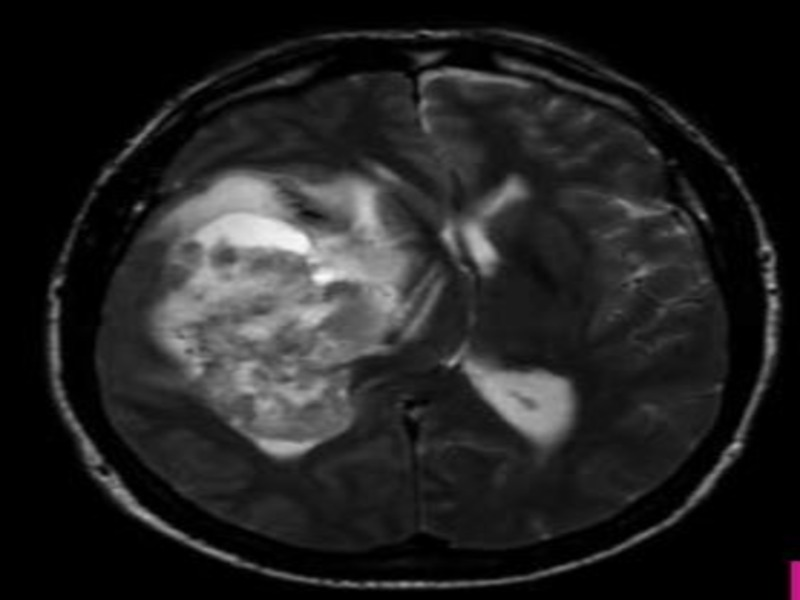tumor: (182, 202, 333, 288)
